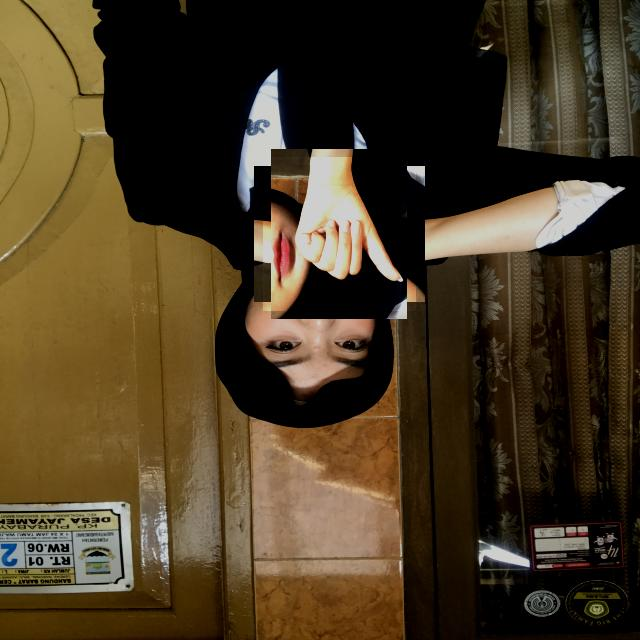sedih: (263, 157, 416, 311)
